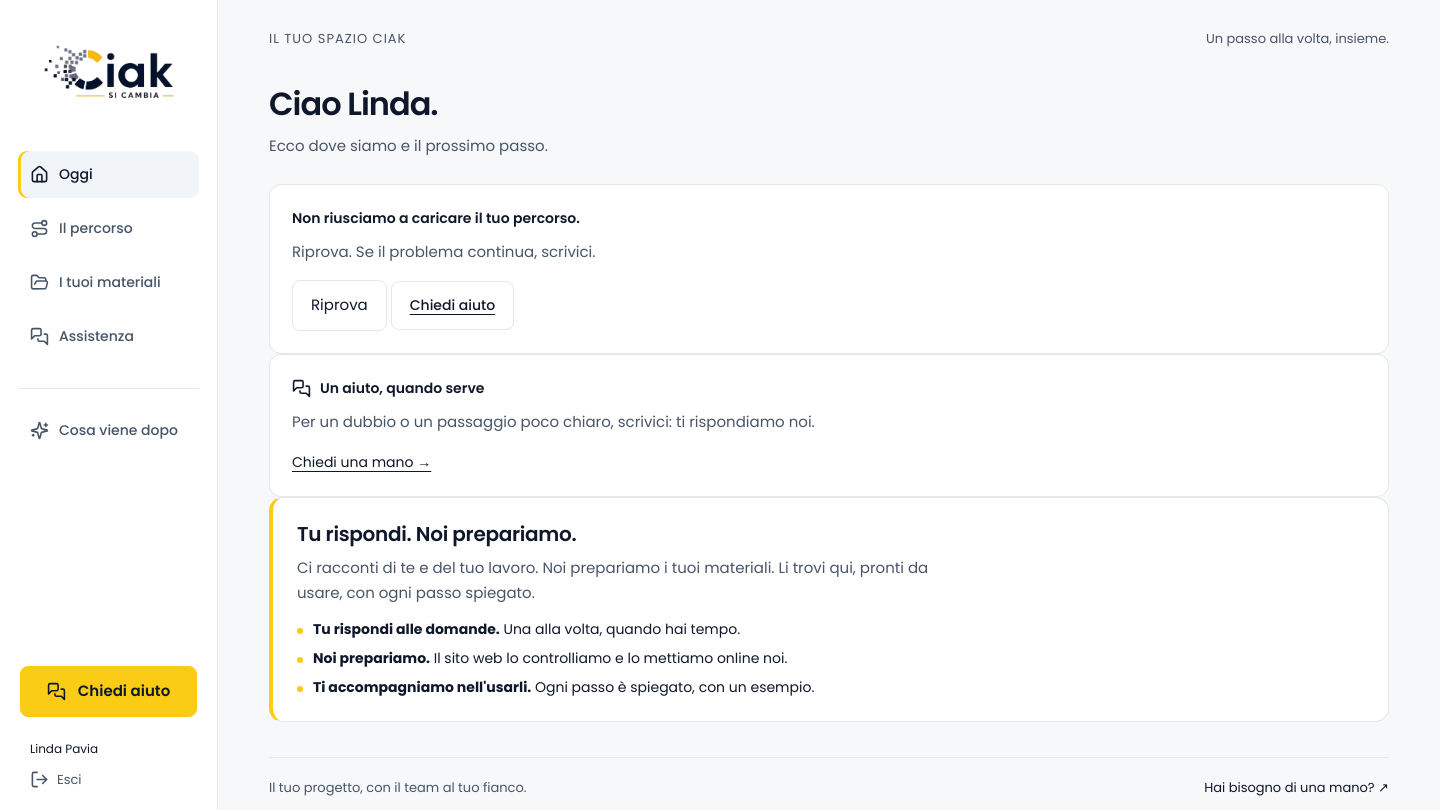
Oggi: se i dati non arrivano lo dice e permette di riprovare, senza inventare un passo
Expected: the heading "Non riusciamo a caricare il tuo percorso." is shown, [292,208,580,228]
Expected: the text "Inizia le domande" is not shown
What coordinates should you click on to do the following:
click the button "Riprova"
I would click on:
 (339, 305)
Its box is [292,280,387,331].
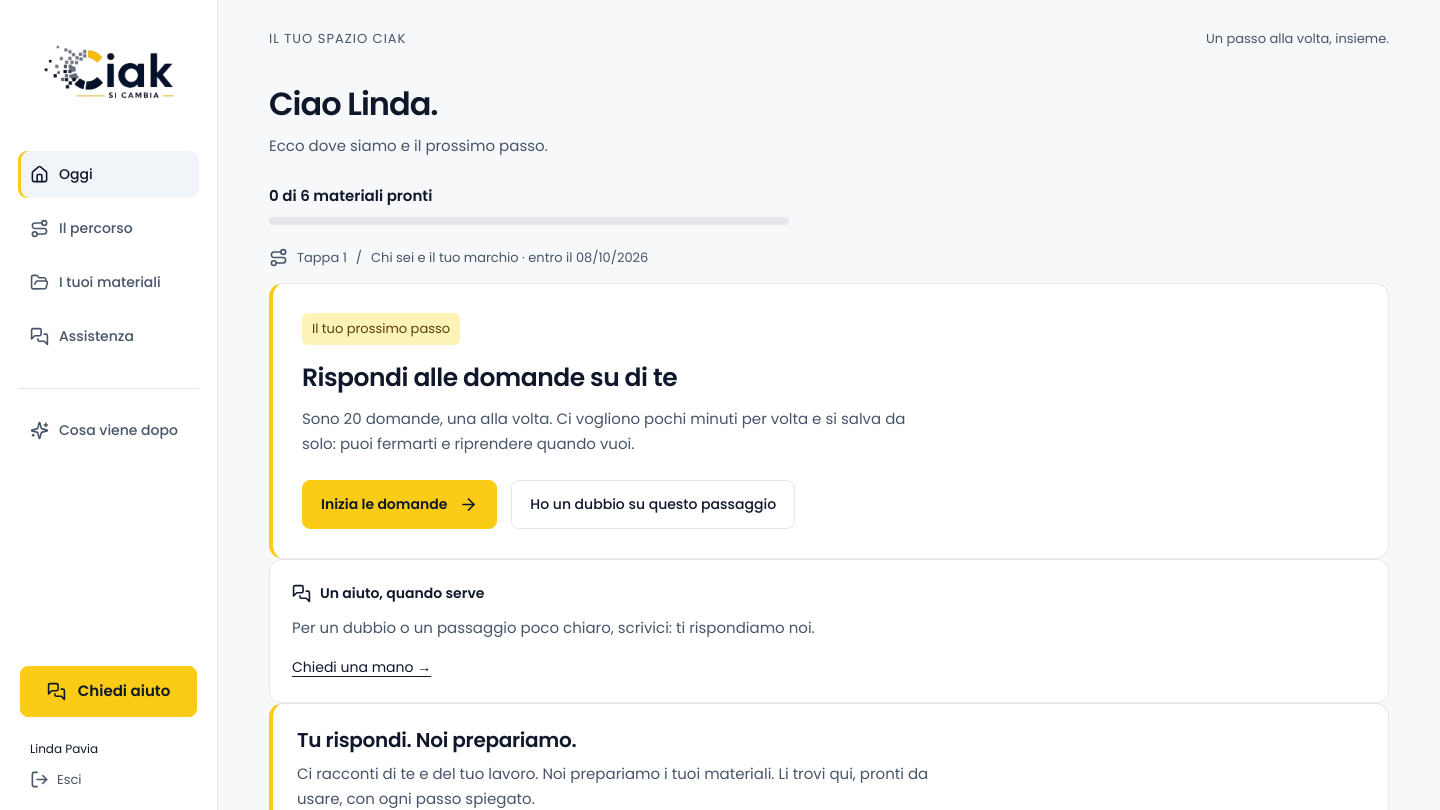
Now the link "Inizia le domande" is shown, box [302,480,497,529]
